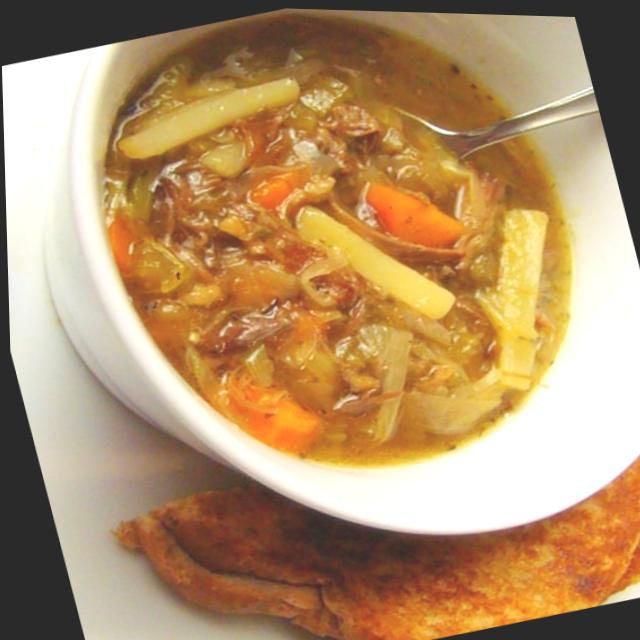汤锅炖物: (18, 0, 640, 571)
